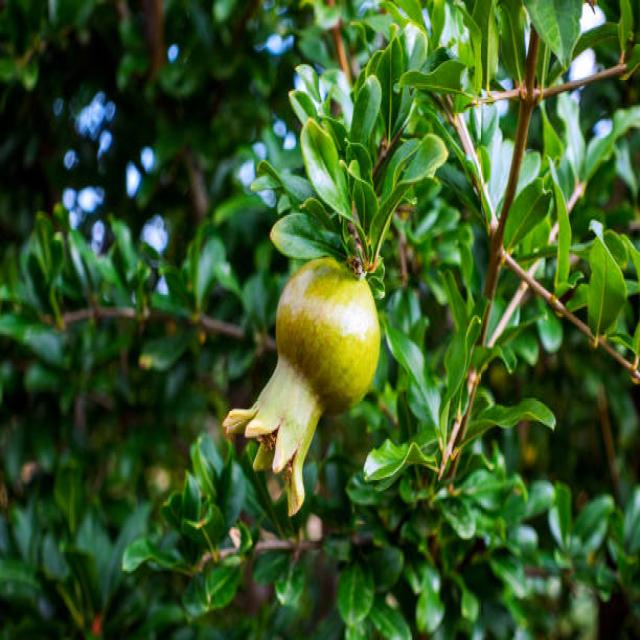Unripe: (225, 253, 380, 518)
